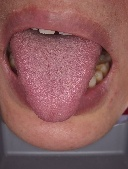tongue: (9, 40, 103, 124)
